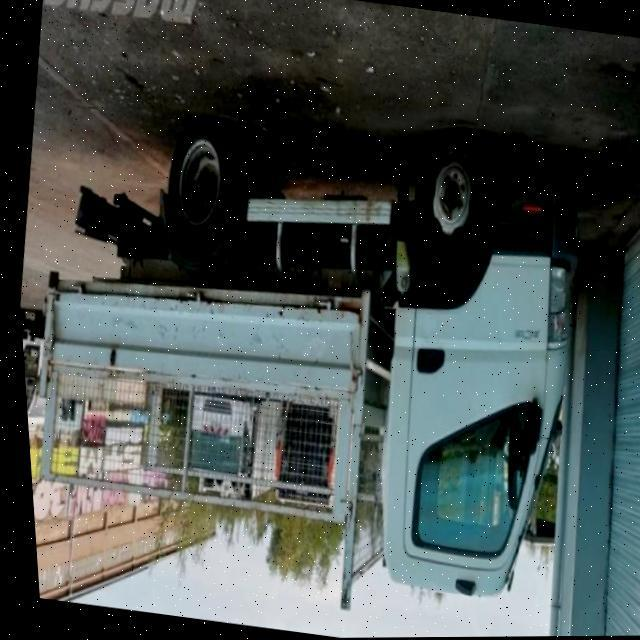truck: (4, 75, 614, 640)
